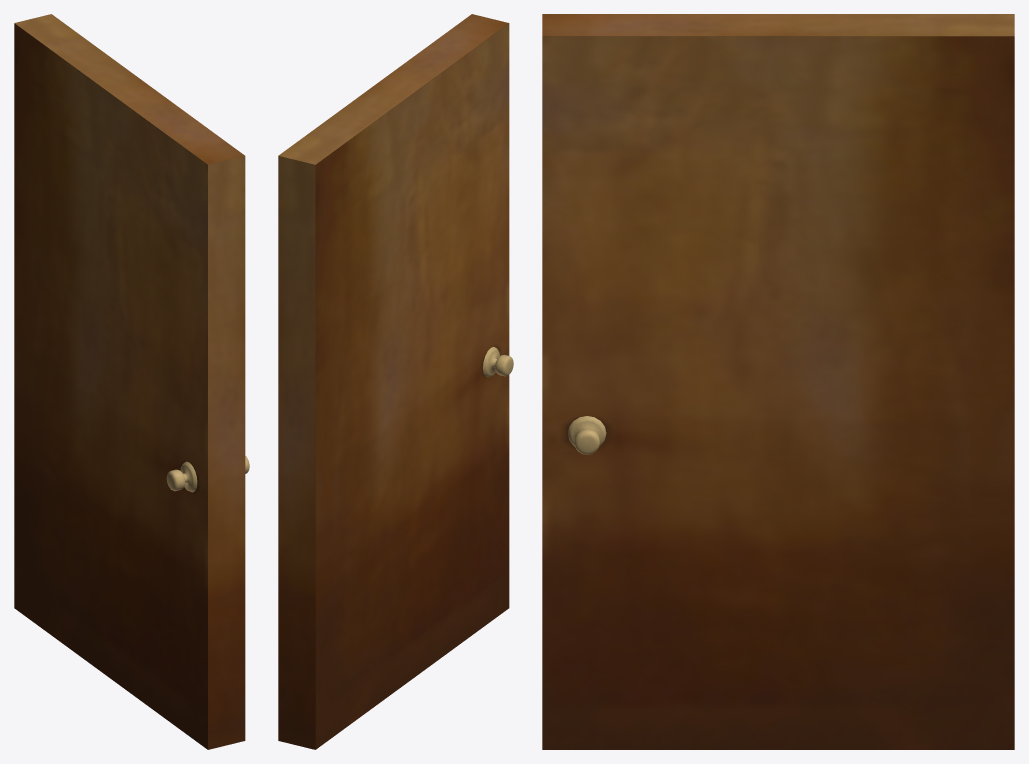
File: Door_B.fbx
The picture shows the model from 3 angles, left to right: view 1: azimuth 30°, elevation 25°; view 2: azimuth 150°, elevation 25°; view 3: azimuth 270°, elevation 25°; orthographic projection. The views are drawn at different scales.
Parts seen in each view (by area): view 1: Plane; view 2: Plane; view 3: Plane.
Part boxes in pixels (bbox=[...]): Plane: bbox=[14, 14, 249, 749]; Plane: bbox=[278, 14, 513, 749]; Plane: bbox=[542, 14, 1014, 749].
Size of the model in its own units: 40.5 by 300 by 180.
